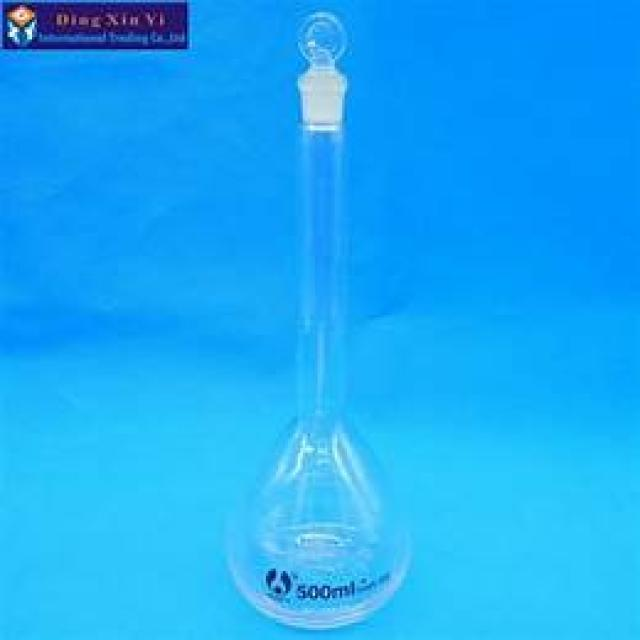Volumetric flask: (238, 1, 422, 623)
